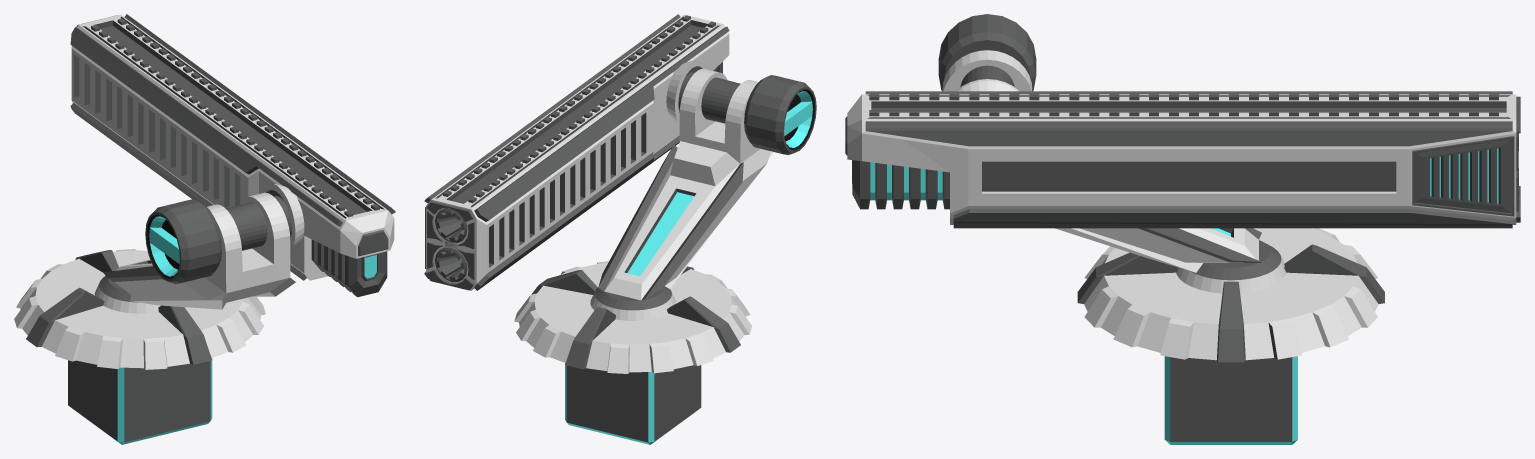
Rendered from Rocket_Launcher.fbx.
3 views of the same model, side by side, from view 1: azimuth 30°, elevation 25°; view 2: azimuth 150°, elevation 25°; view 3: azimuth 270°, elevation 25° (orthographic). The views are drawn at different scales.
Parts seen in each view (by area): view 1: Barell, Base, Rotator; view 2: Barell, Base, Rotator; view 3: Barell, Base, Rotator.
Boxes of the visible parts, left/top/right/bottom form: Barell: left=70, top=14, right=395, bottom=297; Base: left=14, top=249, right=265, bottom=444; Rotator: left=103, top=192, right=295, bottom=309; Barell: left=424, top=14, right=816, bottom=290; Base: left=514, top=261, right=751, bottom=444; Rotator: left=598, top=68, right=773, bottom=300; Barell: left=845, top=14, right=1520, bottom=228; Base: left=1077, top=228, right=1384, bottom=444; Rotator: left=942, top=50, right=1261, bottom=272.
Bounding box in the file's own units: 506 × 659 × 1110.
